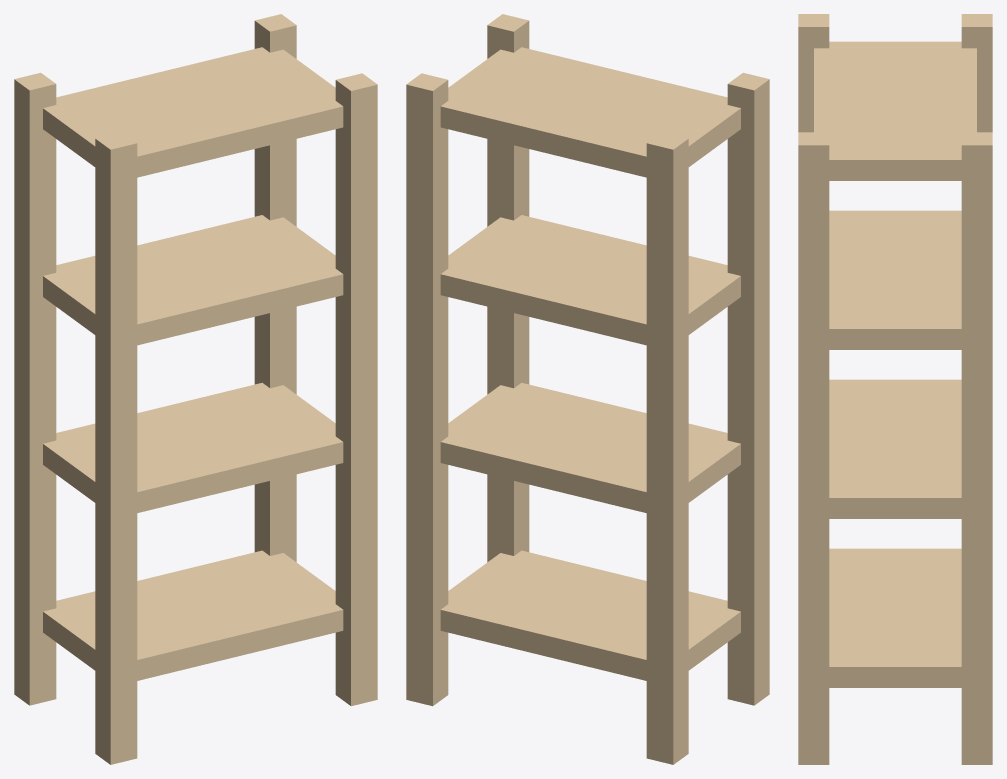
File: bookcaseOpen.glb
The picture shows the model from 3 angles, left to right: view 1: azimuth 30°, elevation 25°; view 2: azimuth 150°, elevation 25°; view 3: azimuth 270°, elevation 25°; orthographic projection.
Visible parts, largest first — view 1: bookcaseOpen; view 2: bookcaseOpen; view 3: bookcaseOpen.
Boxes of the visible parts, x1,y1,x2,y2 form: bookcaseOpen: [14, 14, 377, 764]; bookcaseOpen: [406, 14, 769, 764]; bookcaseOpen: [798, 14, 992, 764].
Size of the model in its own units: 4 by 8.8 by 2.5.
